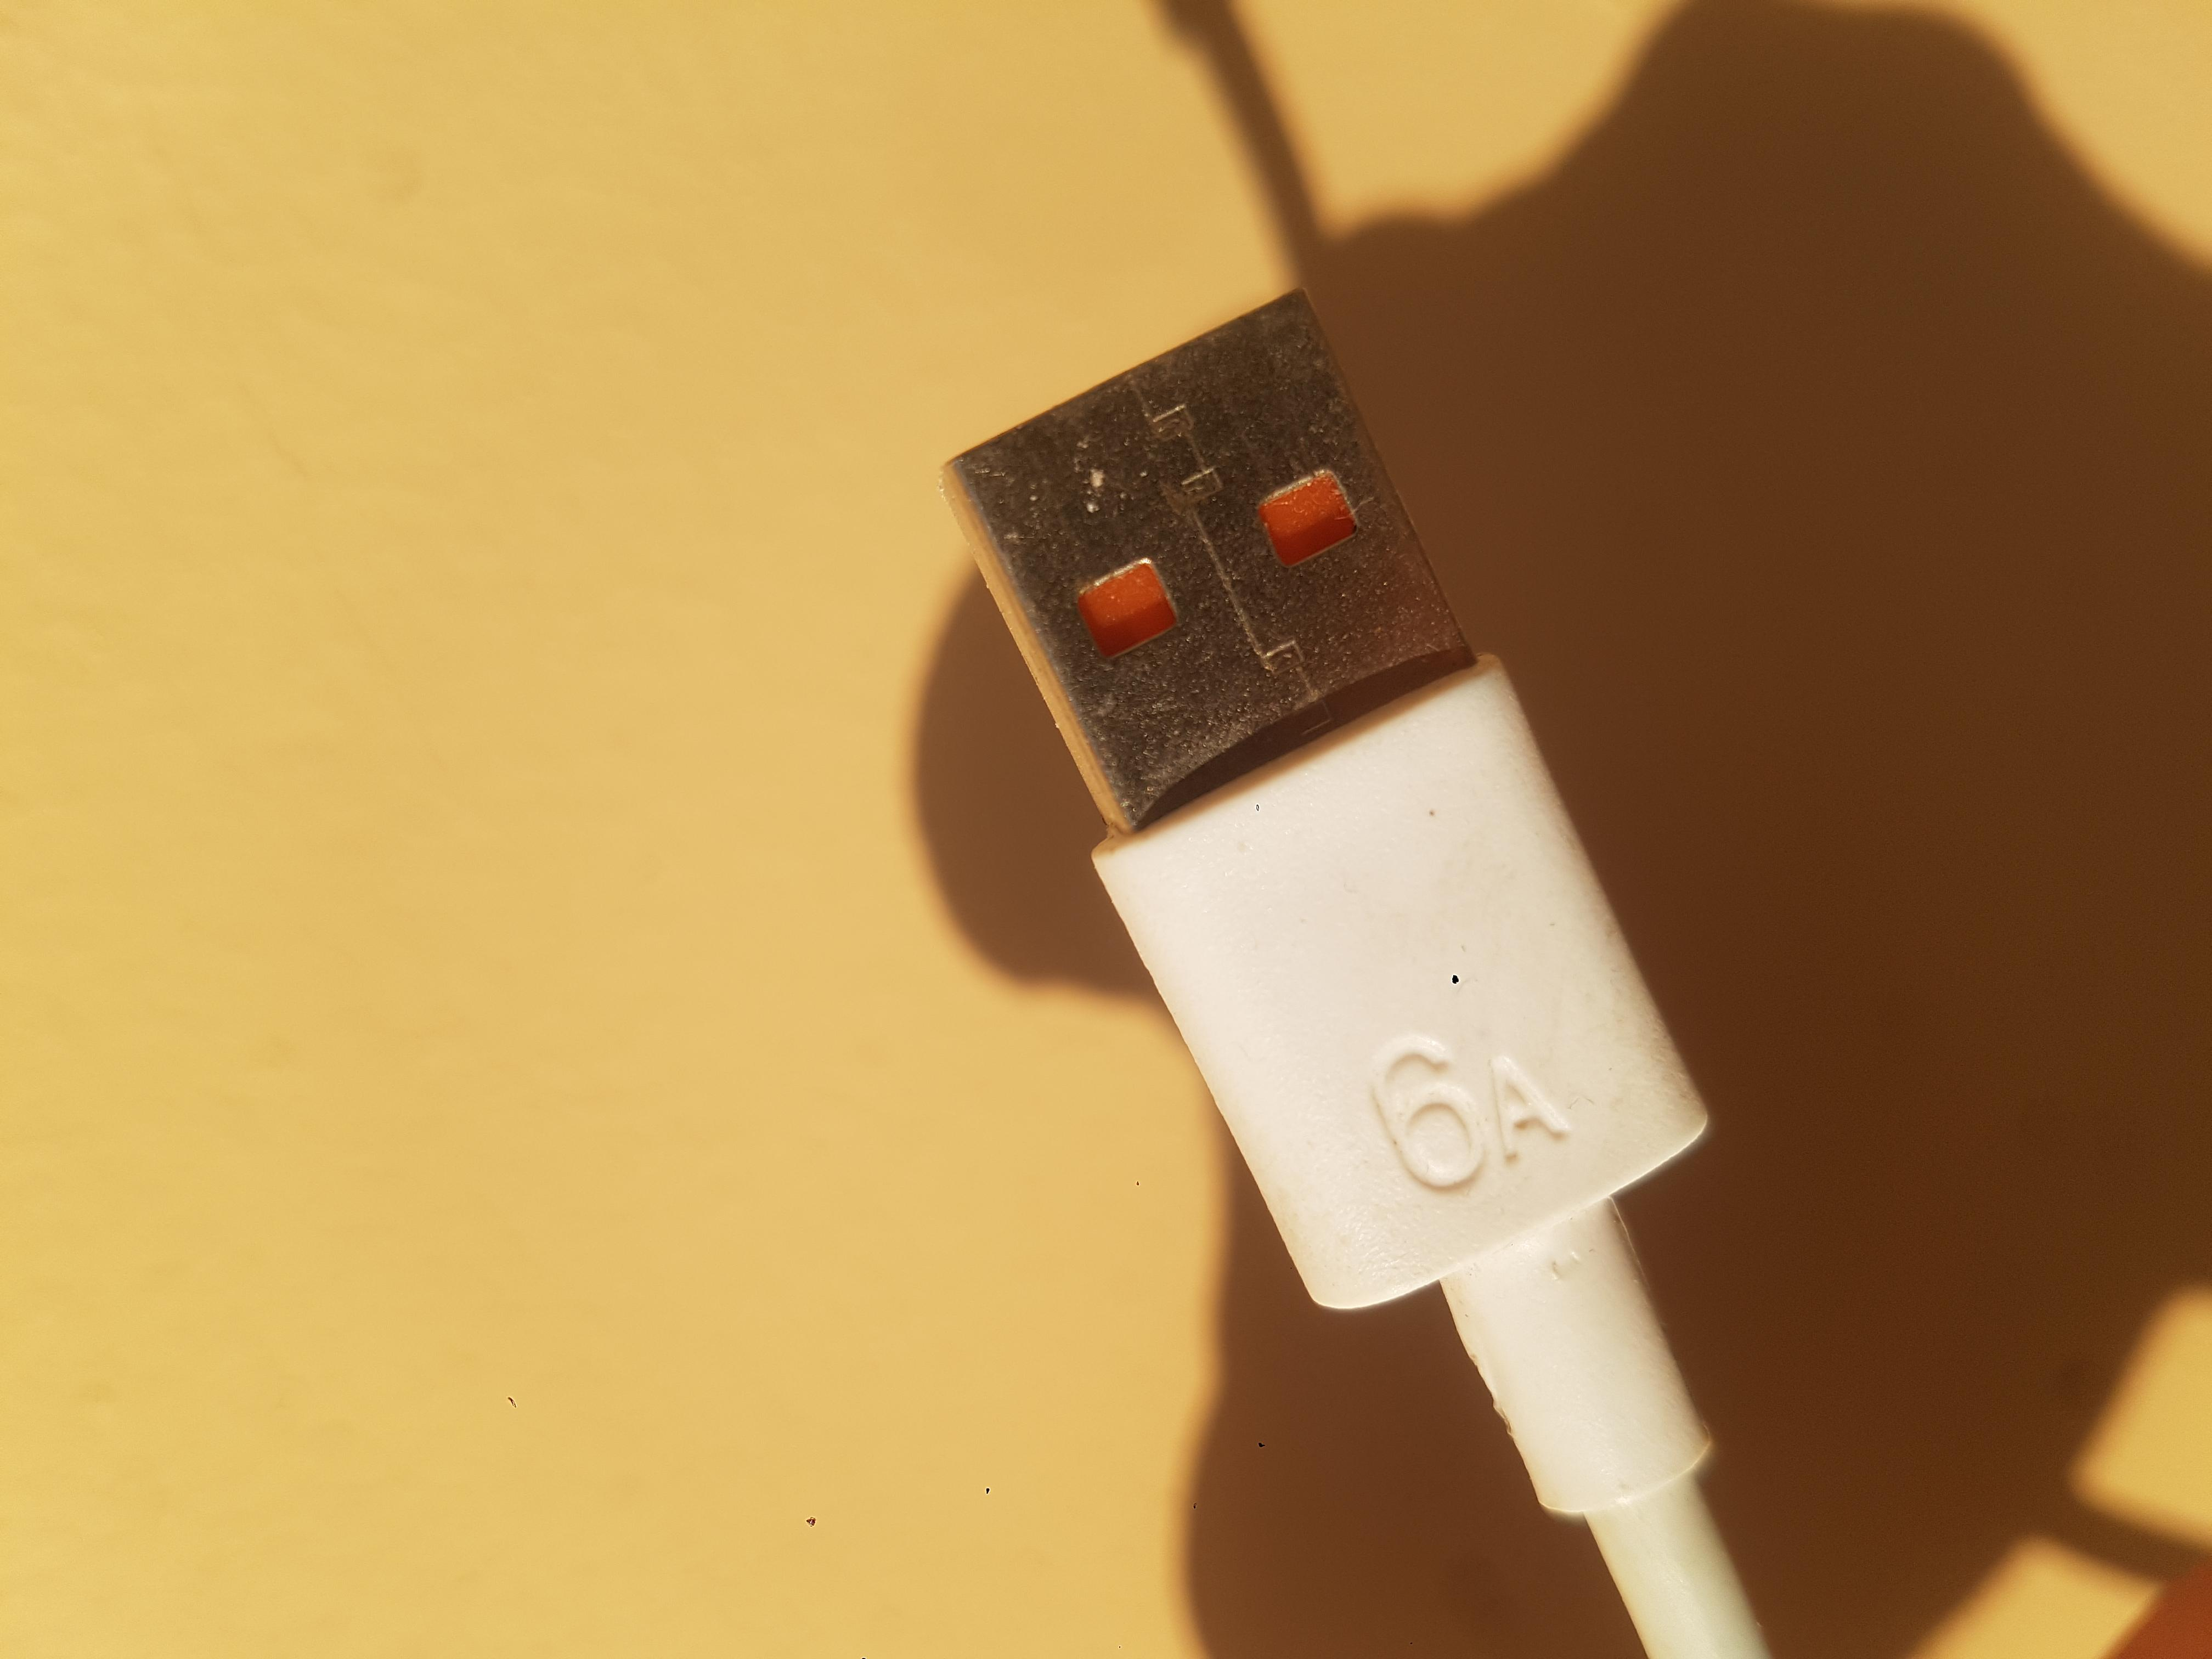electronic: (21, 711, 1801, 1363)
